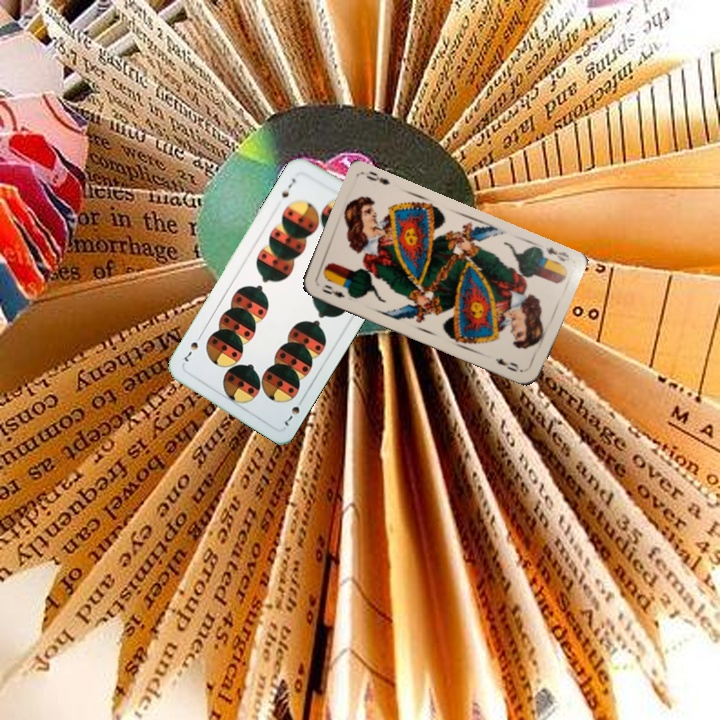EO: (541, 243, 572, 264), (317, 280, 347, 300)
S7: (280, 393, 307, 429), (277, 174, 298, 200)
